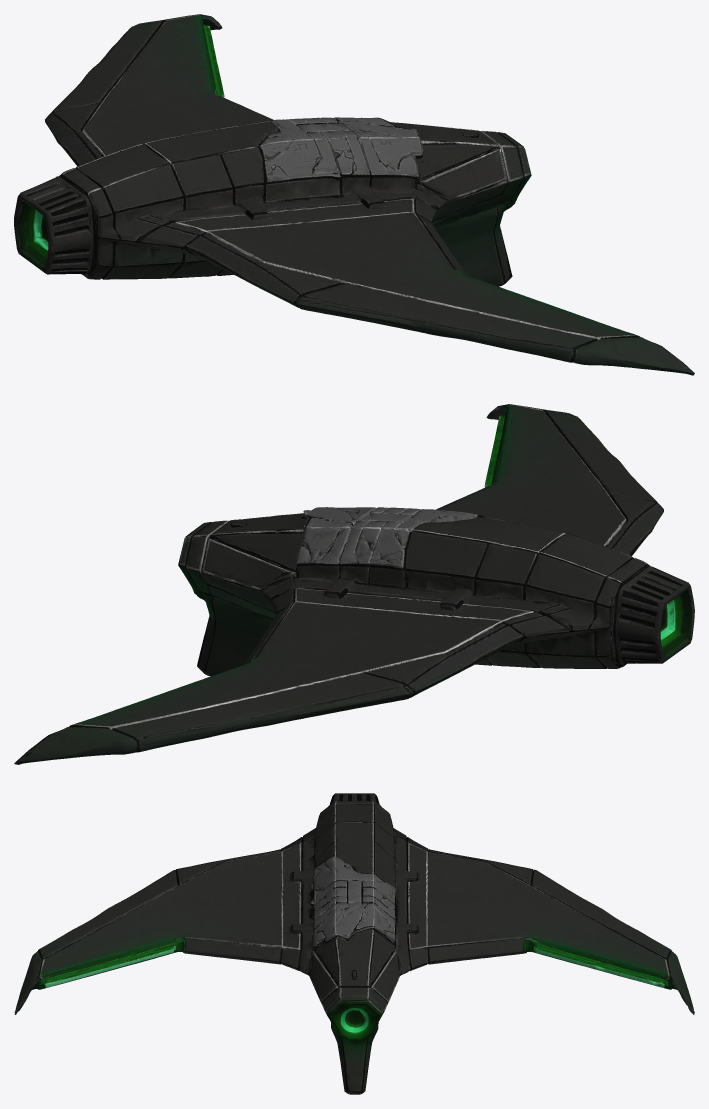
Rendered from Enemigo1.glb.
3 views of the same model, one above another, from view 1: azimuth 30°, elevation 25°; view 2: azimuth 150°, elevation 25°; view 3: azimuth 270°, elevation 25° (orthographic). The views are drawn at different scales.
Visible parts, largest first — view 1: tripo_node_9c7dfd9e-4c63-4196-96f5-bdc6f70f13c0; view 2: tripo_node_9c7dfd9e-4c63-4196-96f5-bdc6f70f13c0; view 3: tripo_node_9c7dfd9e-4c63-4196-96f5-bdc6f70f13c0.
Part boxes in pixels (box(x1,y1,x2,y2)): tripo_node_9c7dfd9e-4c63-4196-96f5-bdc6f70f13c0: box(14, 14, 694, 375); tripo_node_9c7dfd9e-4c63-4196-96f5-bdc6f70f13c0: box(14, 404, 694, 764); tripo_node_9c7dfd9e-4c63-4196-96f5-bdc6f70f13c0: box(14, 793, 694, 1094).
Bounding box in the file's own units: 0.5789 × 0.244 × 0.9817.
Materials: 1 (1 with a texture image).
